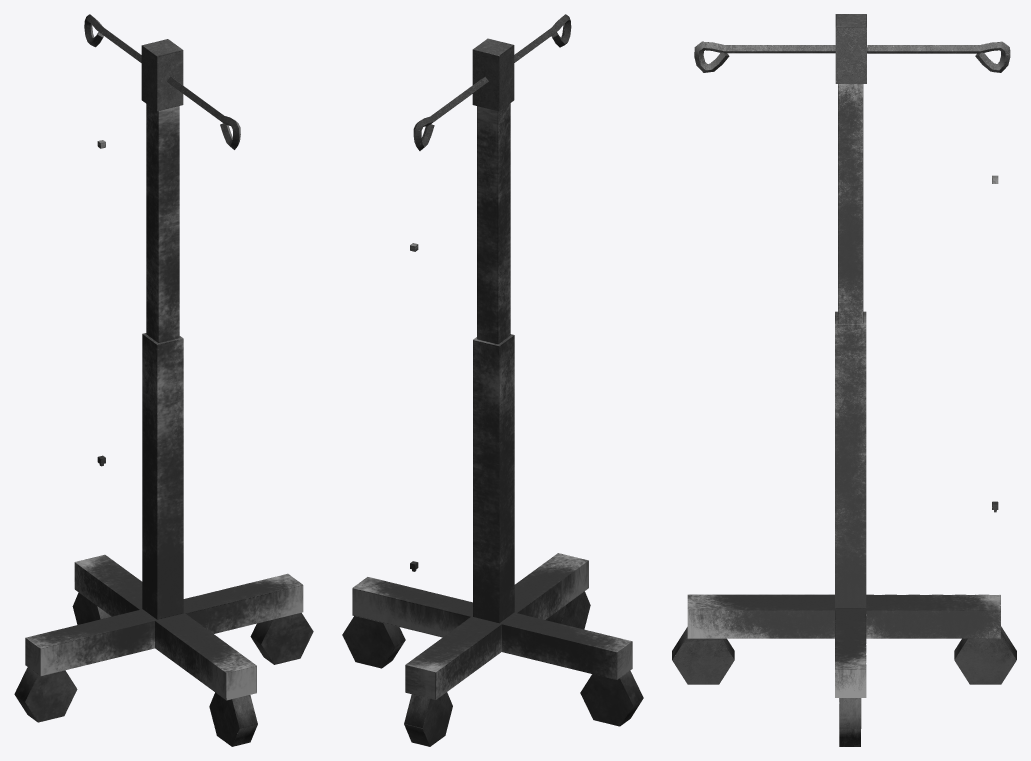
File: IV_Drip.fbx
3 views of the same model, side by side, from view 1: azimuth 30°, elevation 25°; view 2: azimuth 150°, elevation 25°; view 3: azimuth 270°, elevation 25° (orthographic). The views are drawn at different scales.
Parts seen in each view (by area): view 1: UV_Drip_Object; view 2: UV_Drip_Object; view 3: UV_Drip_Object.
Part boxes in pixels (bbox=[...]): UV_Drip_Object: bbox=[14, 14, 313, 746]; UV_Drip_Object: bbox=[342, 14, 643, 746]; UV_Drip_Object: bbox=[672, 14, 1016, 746].
Bounding box in the file's own units: 10.99 × 23.24 × 11.01.
1 material, 1 textured.
